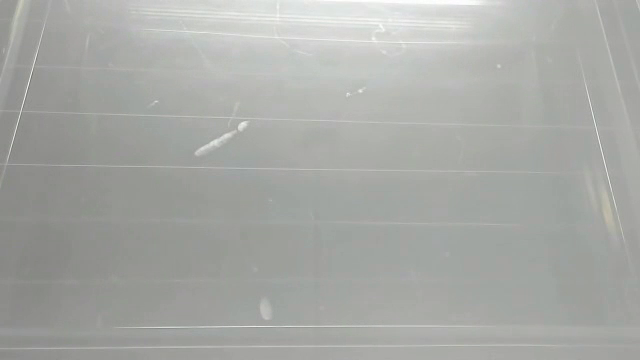alpha: (192, 120, 255, 158), (255, 292, 283, 328)
